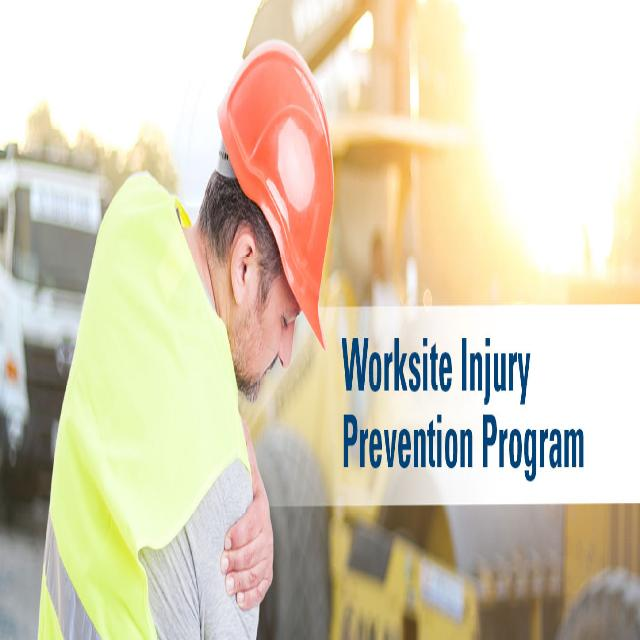Reflective-Jacket: (42, 187, 259, 638)
Safety-Helmet: (218, 31, 337, 344), (531, 556, 640, 640)
